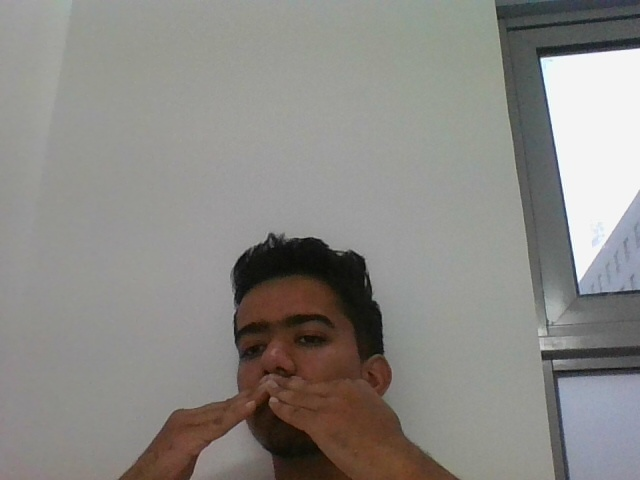thankyou: (139, 372, 405, 467)
